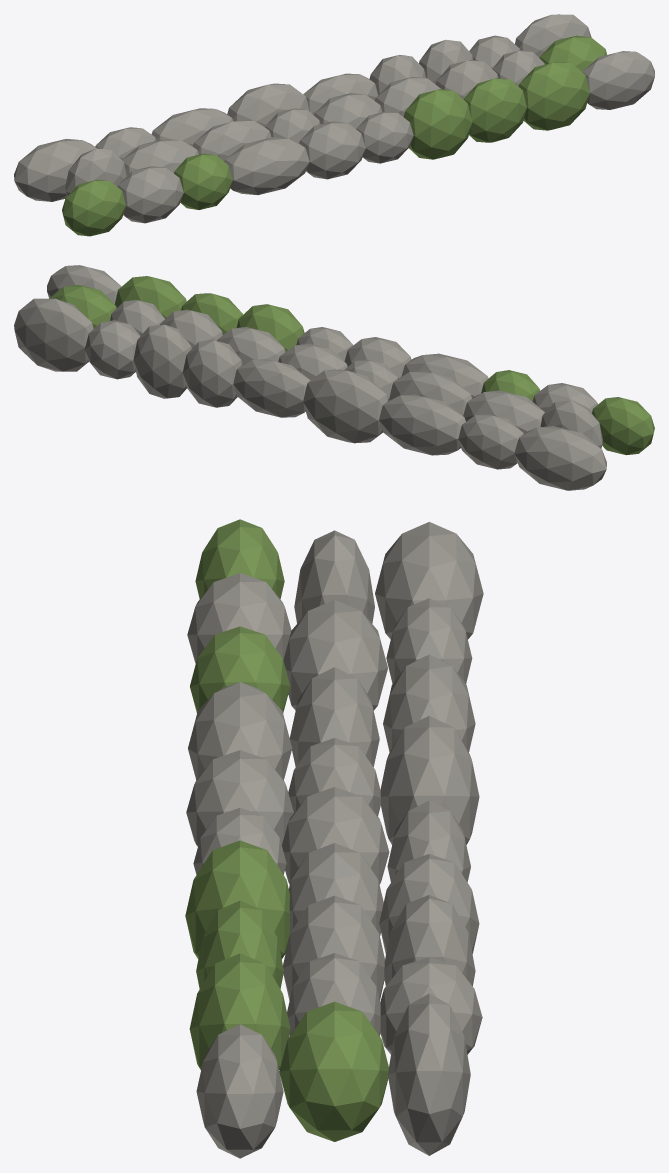
The model's file is stone_foundation_wall.glb.
3 renders of one model, top to bottom at view 1: azimuth 30°, elevation 25°; view 2: azimuth 150°, elevation 25°; view 3: azimuth 270°, elevation 25°, orthographic. The views are drawn at different scales.
Visible parts, largest first — view 1: world; view 2: world; view 3: world.
Boxes of the visible parts, box(x1,y1,x2,y2) form: world: box(14, 14, 654, 236); world: box(14, 265, 654, 490); world: box(185, 519, 483, 1158).
Size of the model in its own units: 4.92 by 0.5756 by 1.07.
